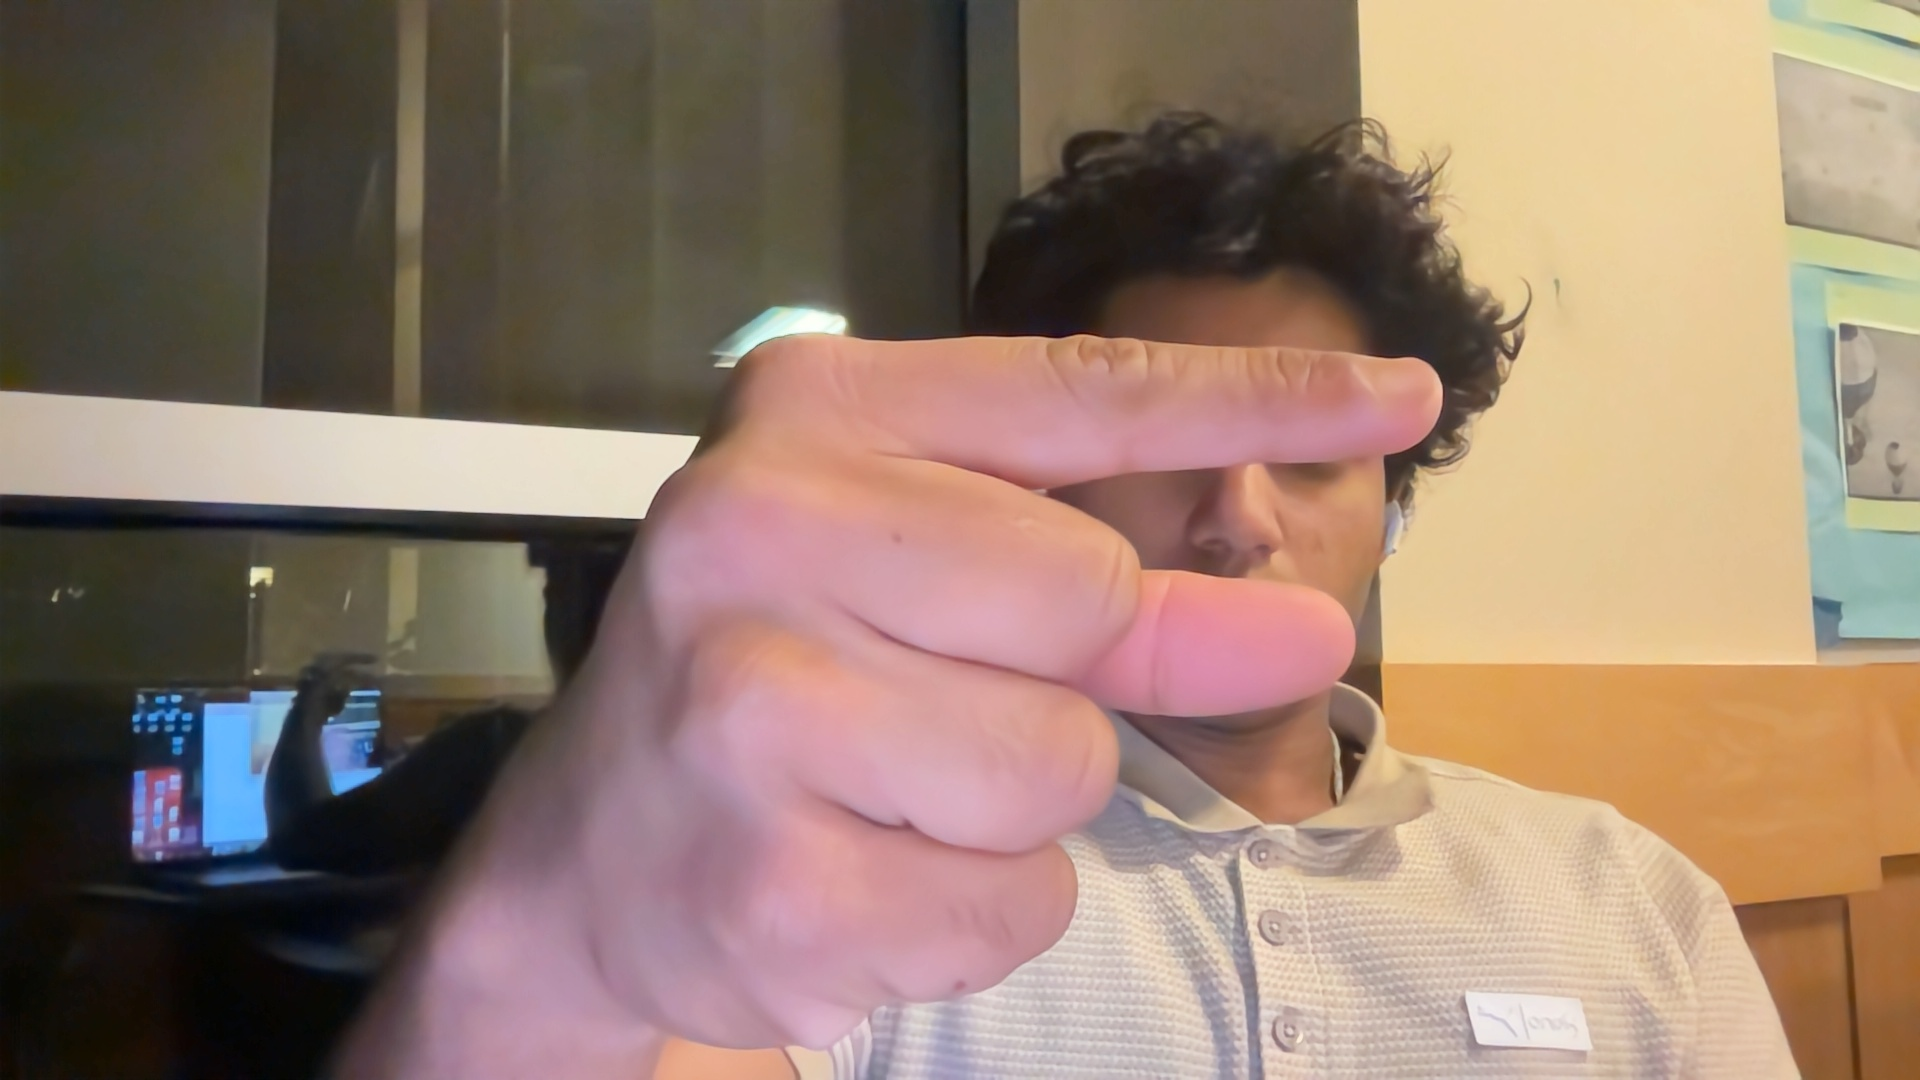g: (443, 314, 1445, 1059)
